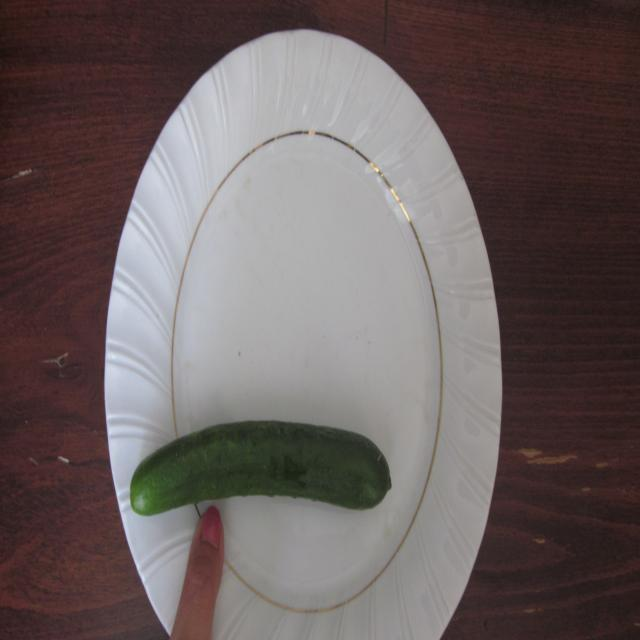Cucumber: (128, 414, 396, 526)
Finger: (184, 508, 235, 615)
